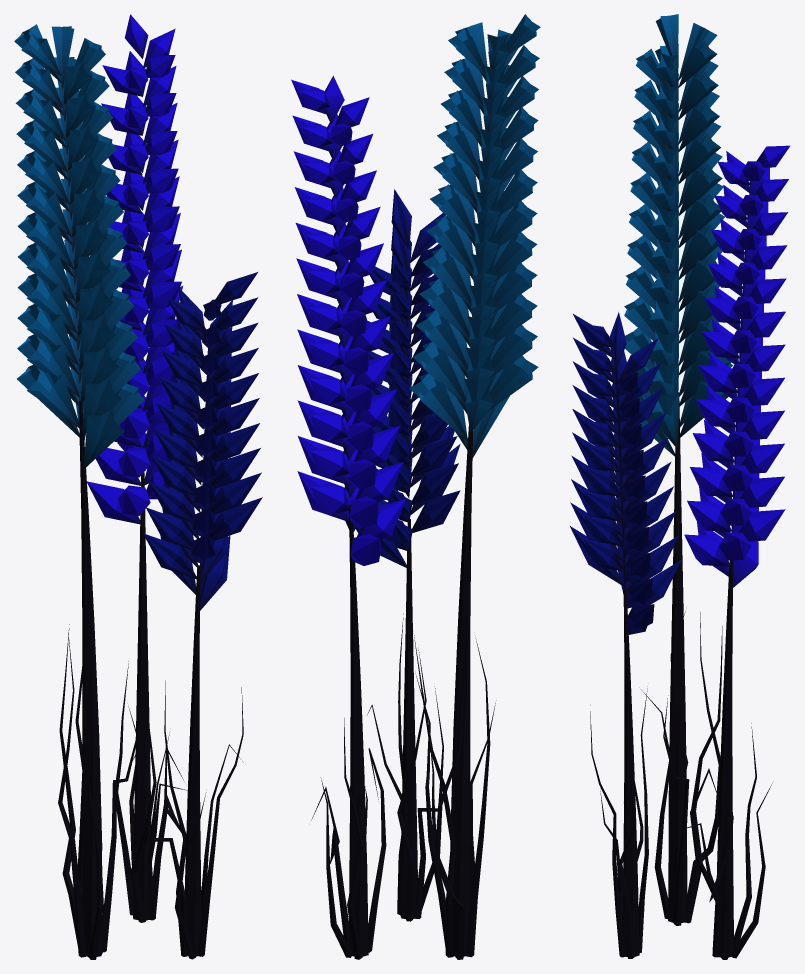
File: Plant-M-2.fbx
The picture shows the model from 3 angles, left to right: view 1: azimuth 30°, elevation 25°; view 2: azimuth 150°, elevation 25°; view 3: azimuth 270°, elevation 25°; orthographic projection. The views are drawn at different scales.
Parts seen in each view (by area): view 1: OUT-Plant; view 2: OUT-Plant; view 3: OUT-Plant.
Part boxes in pixels (bbox=[...]): OUT-Plant: bbox=[14, 14, 262, 959]; OUT-Plant: bbox=[291, 14, 540, 959]; OUT-Plant: bbox=[570, 14, 789, 959].
Bounding box in the file's own units: 0.2018 × 0.8942 × 0.2038.
